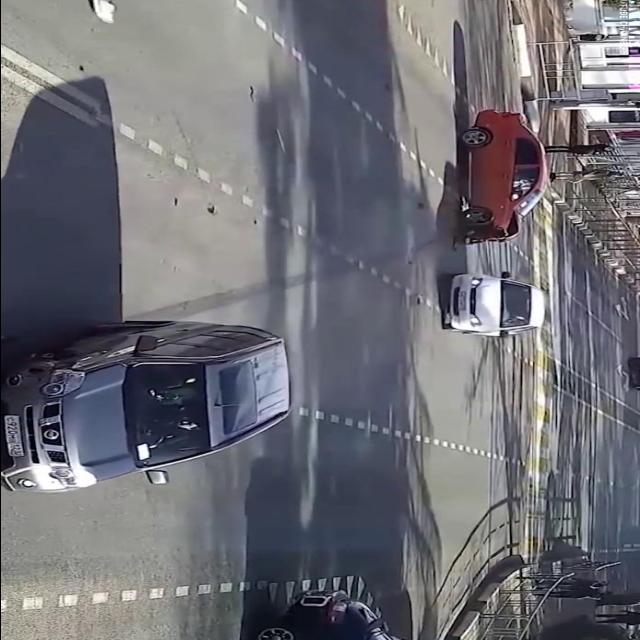accident: (0, 278, 312, 514), (435, 104, 561, 259)
